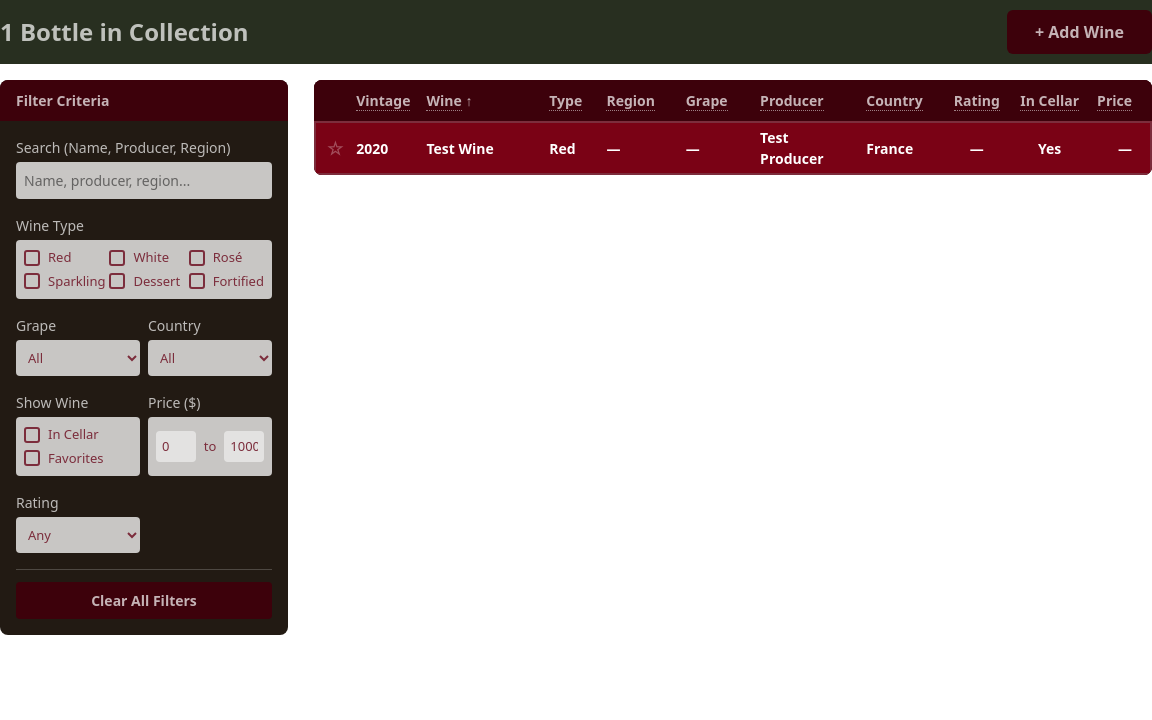
Scenario: Home Page - Wine Cellar › Delete Wine › opens detail modal when clicking wine row
Note: Click on the wine name to open detail modal
Click the text "Test Wine". click: (480, 148)
box: [418,121,541,175]
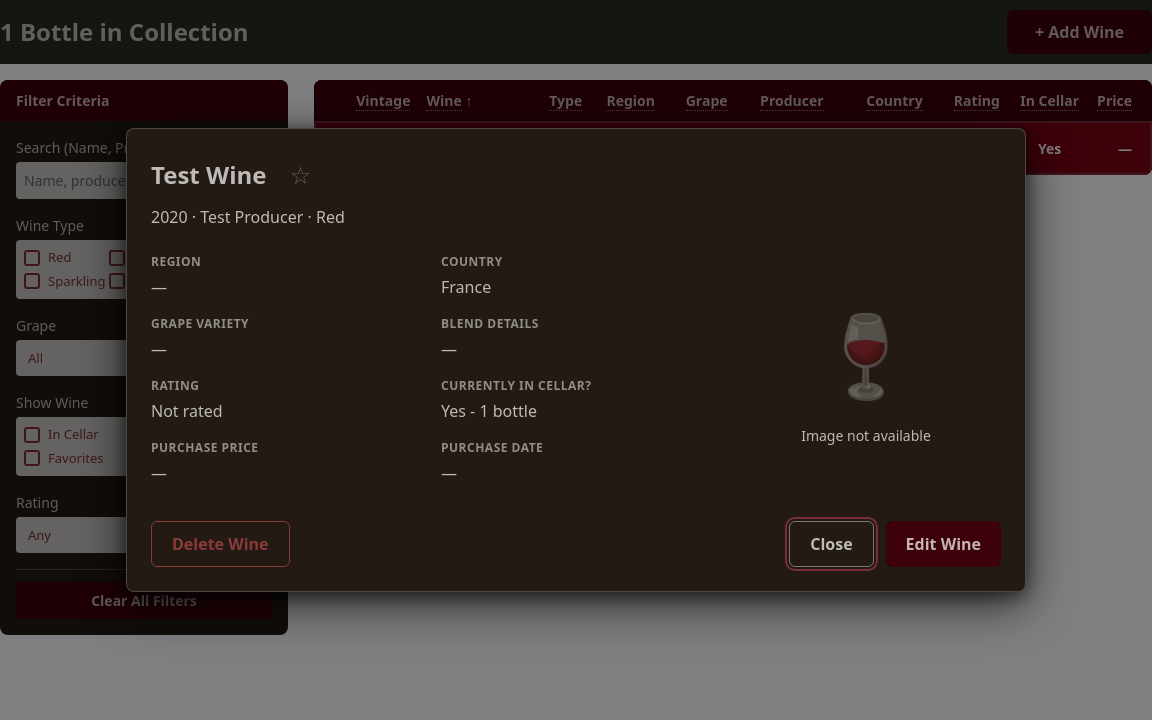
Expected: the text "2020 · Test Producer · Red" is shown, [151,205,345,229]
